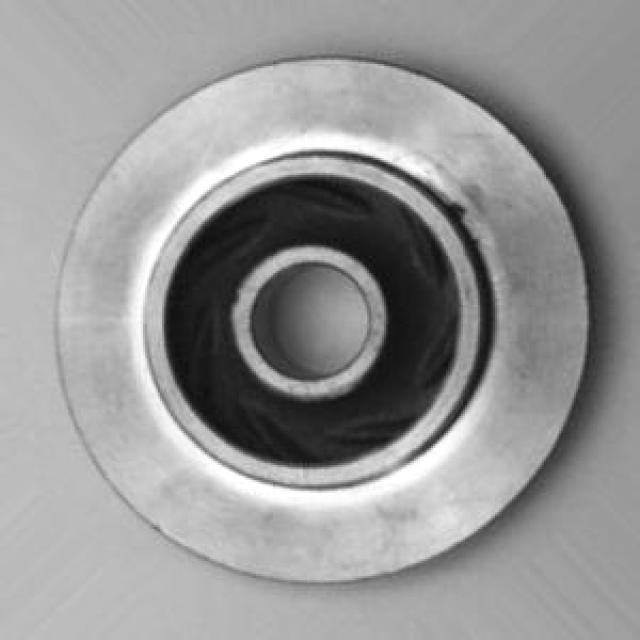Defect: (444, 191, 476, 227)
